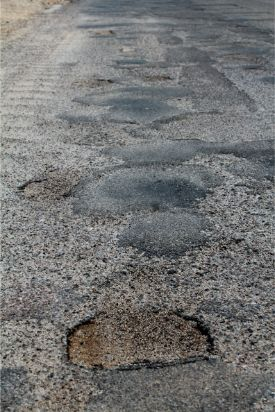pothole: (61, 305, 218, 374)
